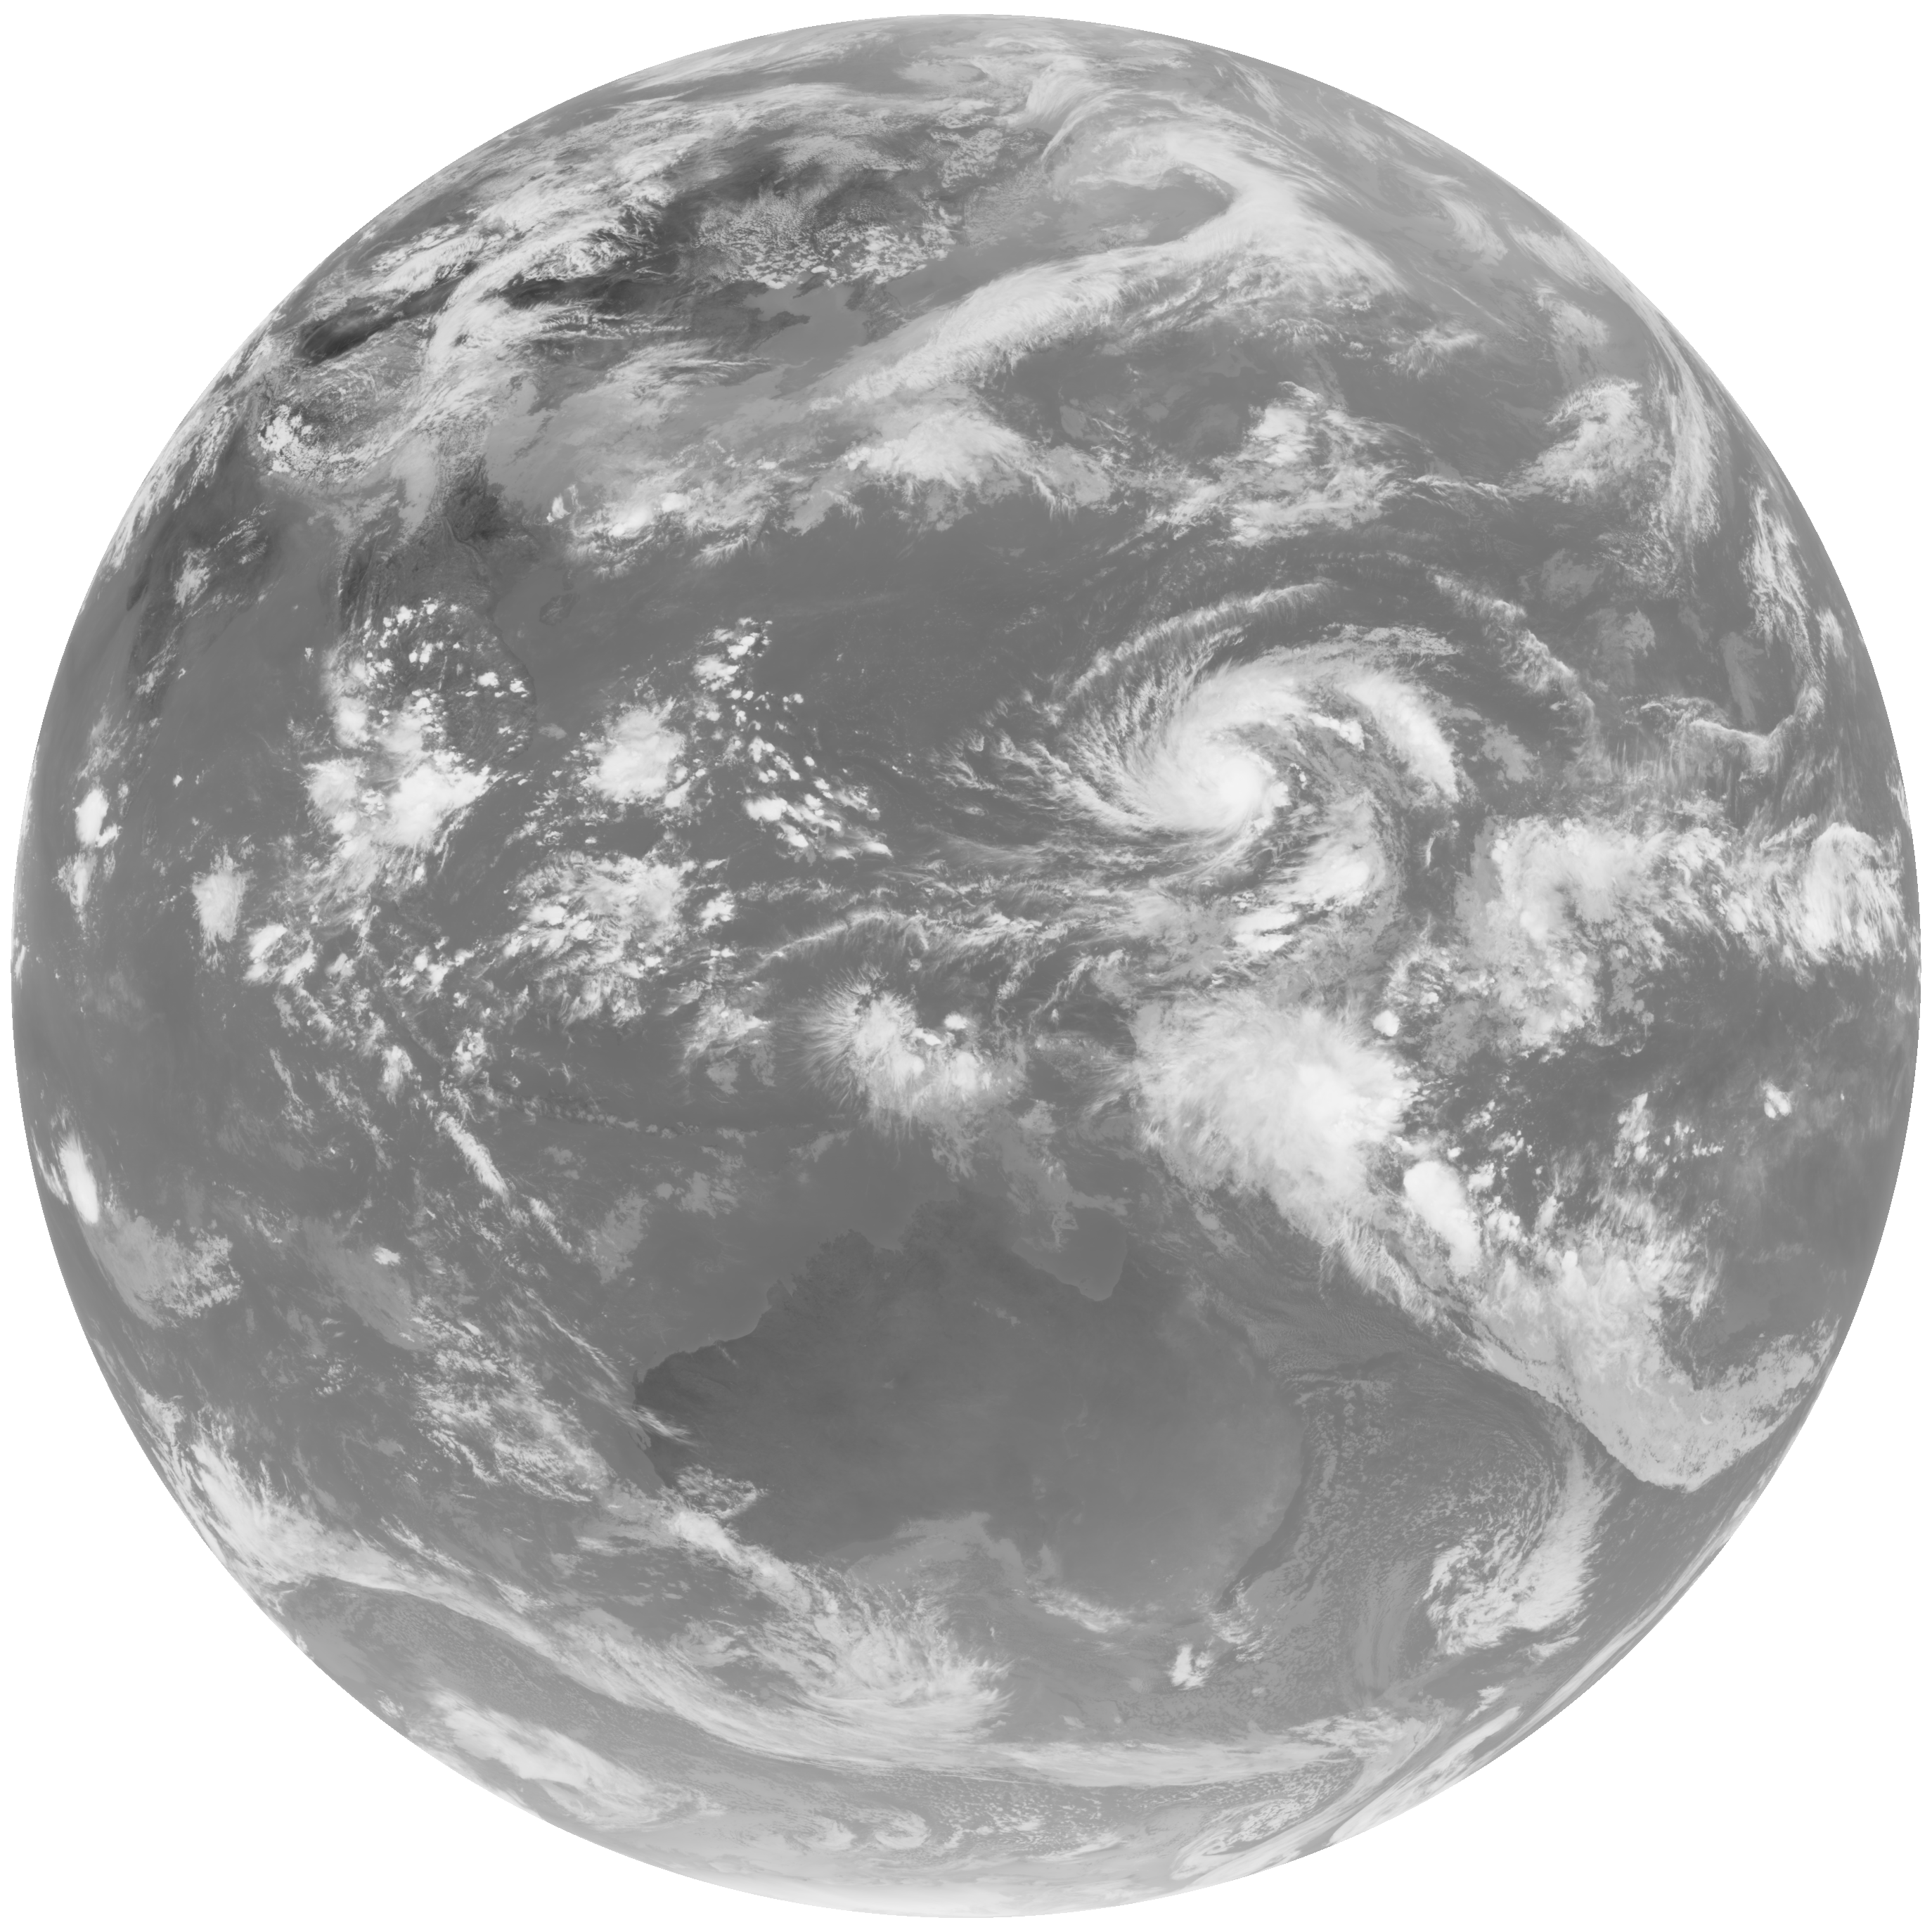typhoon: (915, 586, 1484, 973)
